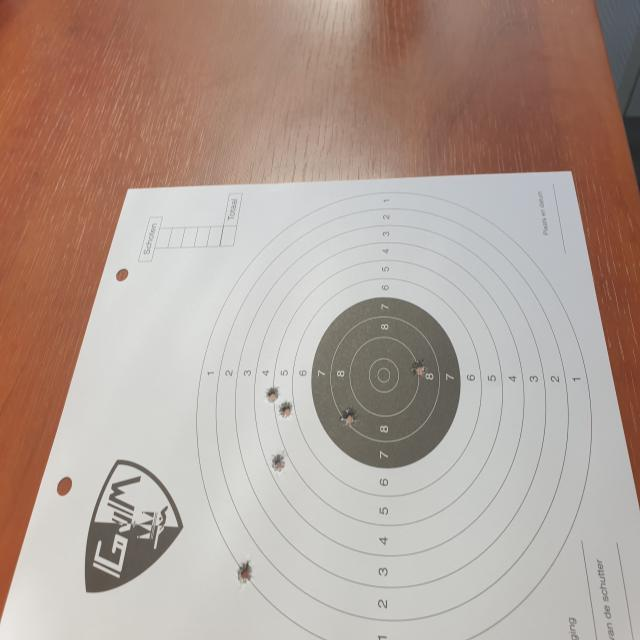1: (236, 558, 253, 588)
4: (270, 449, 288, 477)
5: (264, 384, 280, 405)
6: (279, 399, 293, 421)
8: (339, 406, 358, 429)
9: (409, 358, 428, 378)
Target: (195, 189, 594, 640)
black_contour: (311, 296, 461, 468)
